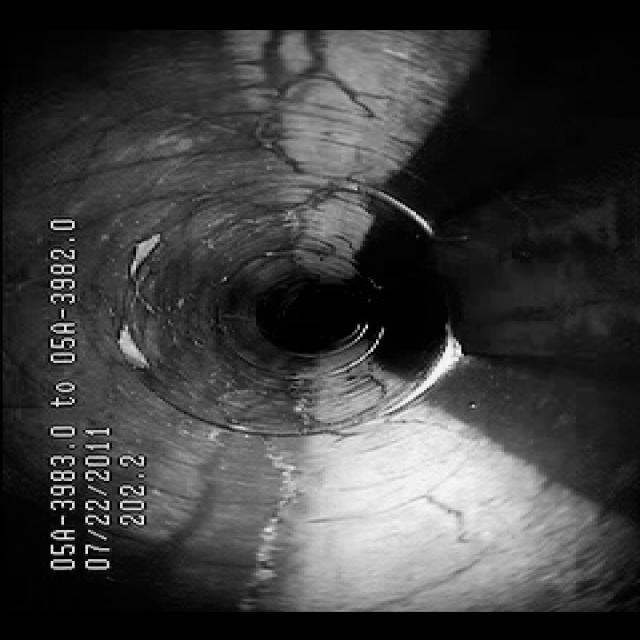Fracture: (229, 381, 329, 595), (382, 481, 498, 597), (228, 52, 344, 164), (222, 176, 351, 252)
